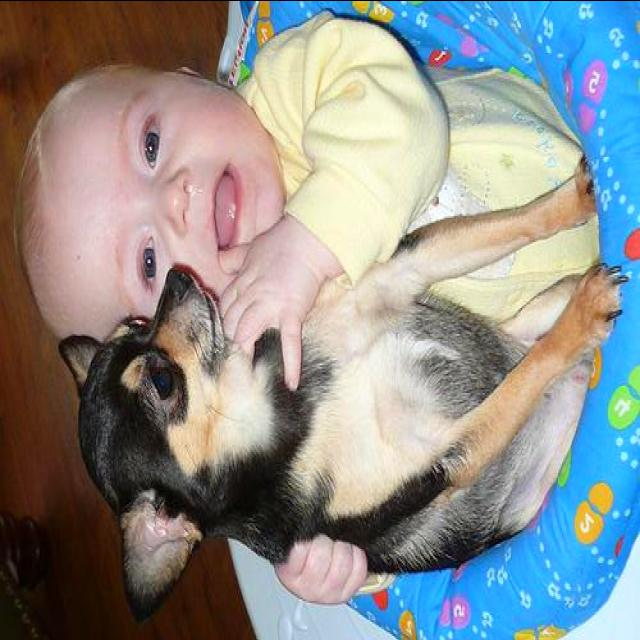chihuahua: (54, 150, 630, 618)
